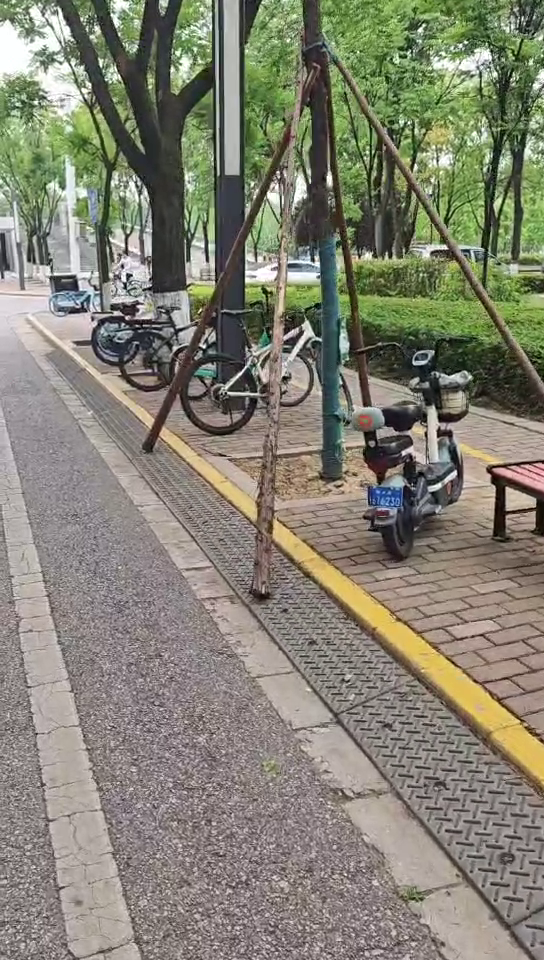others: (343, 314, 475, 595), (182, 296, 351, 445)
